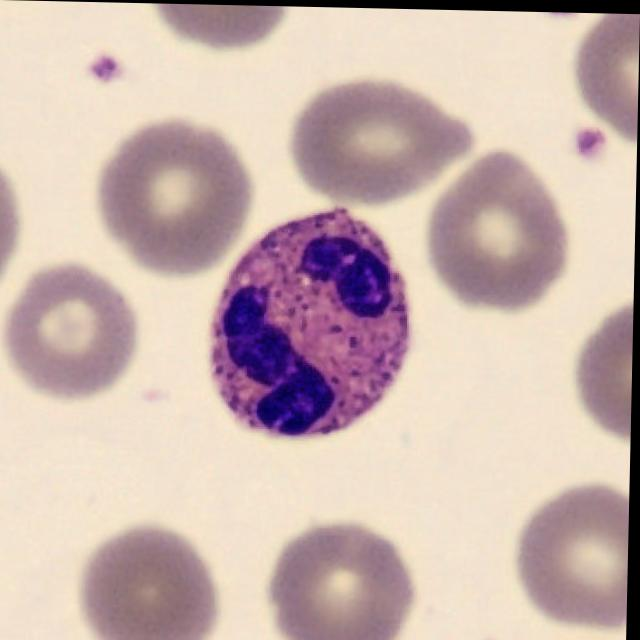Neutrofilo segmentado: (210, 203, 412, 434)
